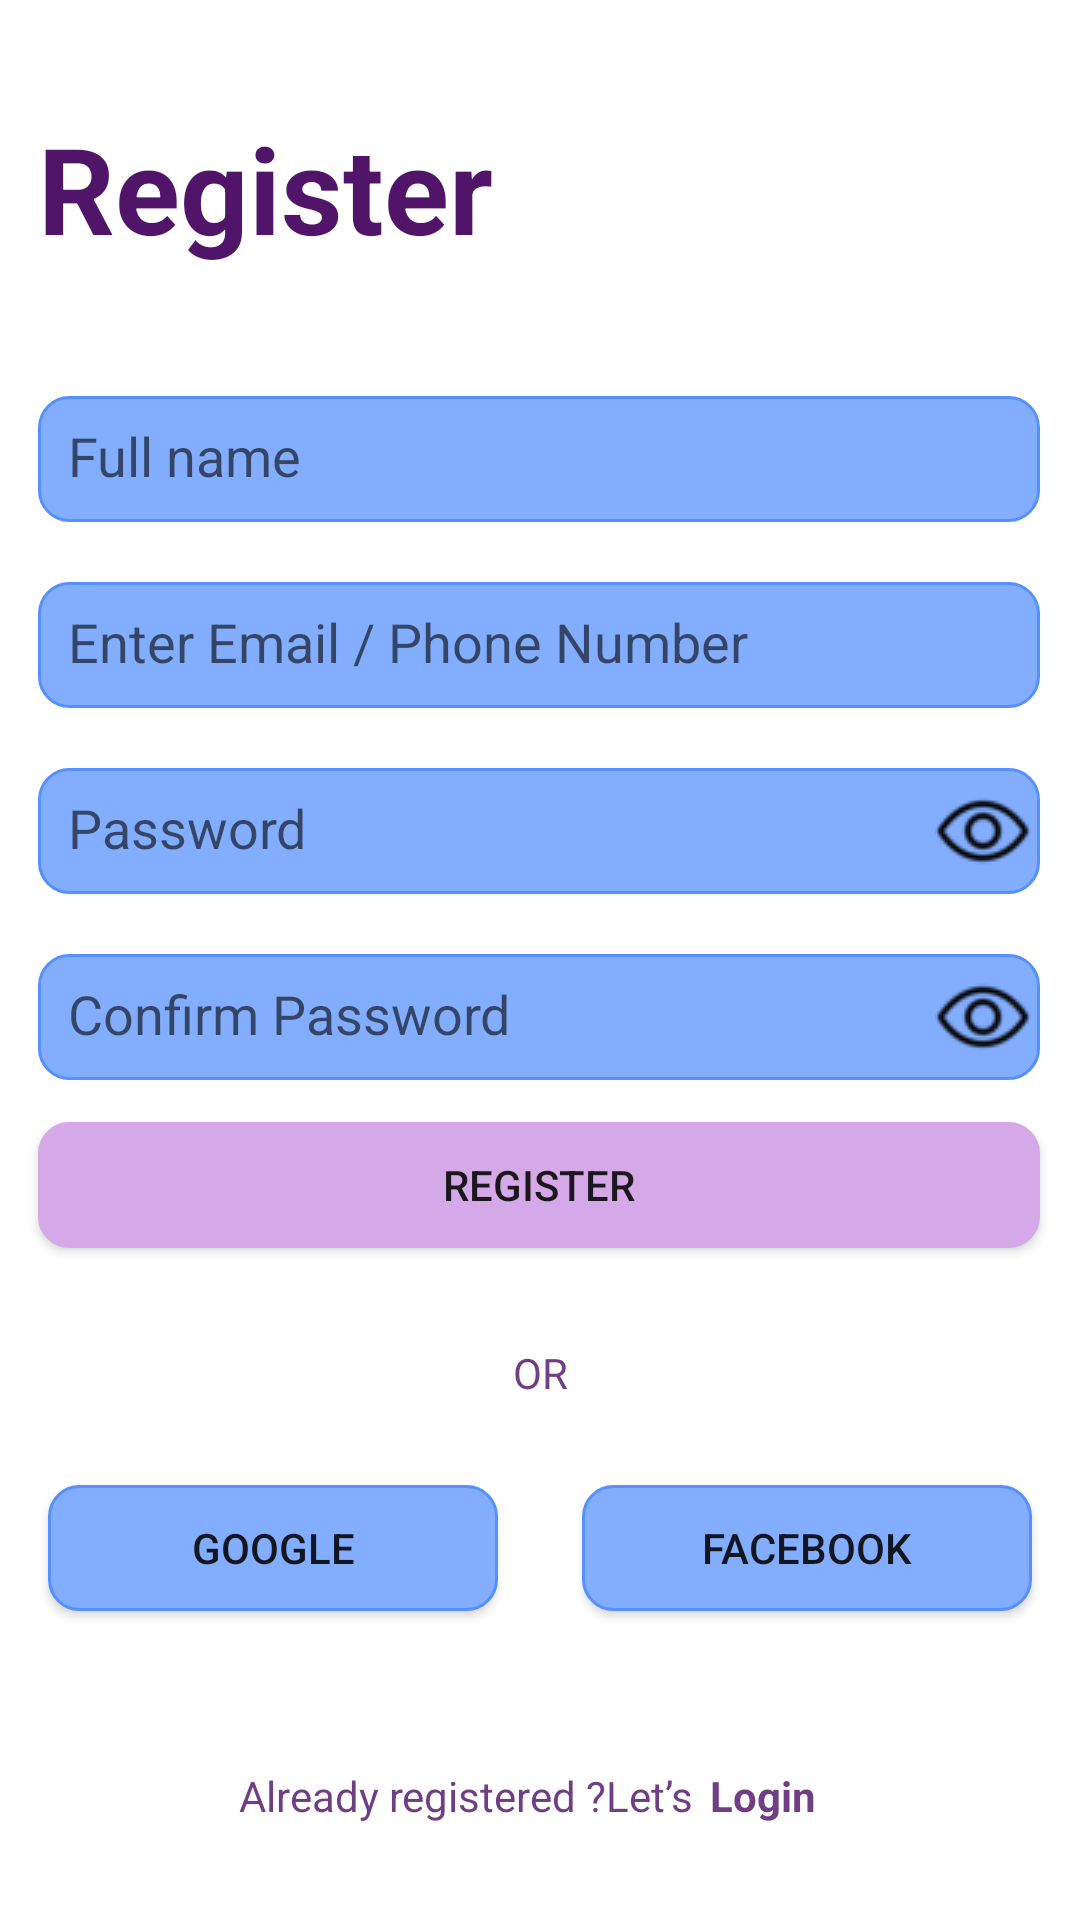

Screen size 1080×1920. Icon name, then its box in pixels as rect(x1, y1, x2, y2):
eye: rect(935, 768, 1040, 894), rect(935, 954, 1040, 1080)
